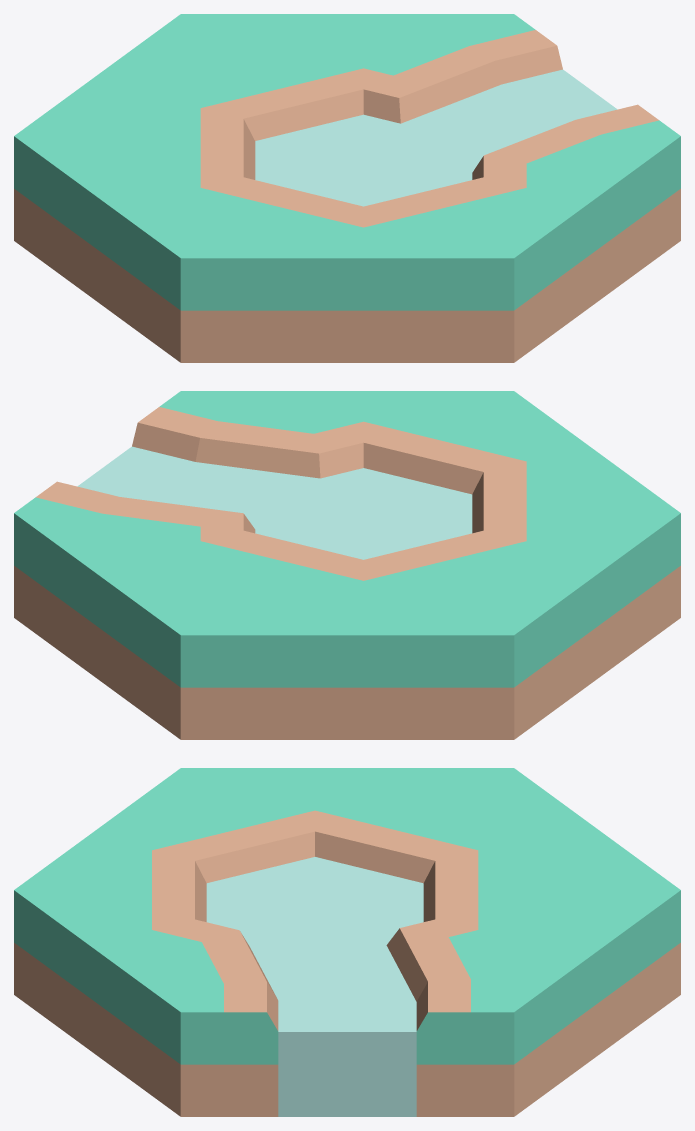
File: river_start.glb
3 renders of one model, top to bottom at view 1: azimuth 30°, elevation 25°; view 2: azimuth 150°, elevation 25°; view 3: azimuth 270°, elevation 25°, orthographic.
Parts seen in each view (by area): view 1: river_start; view 2: river_start; view 3: river_start.
Boxes of the visible parts, bbox=[...] form: river_start: bbox=[14, 14, 680, 362]; river_start: bbox=[14, 391, 680, 739]; river_start: bbox=[14, 768, 680, 1116].
Bounding box in the file's own units: 1 × 0.2 × 1.15.
